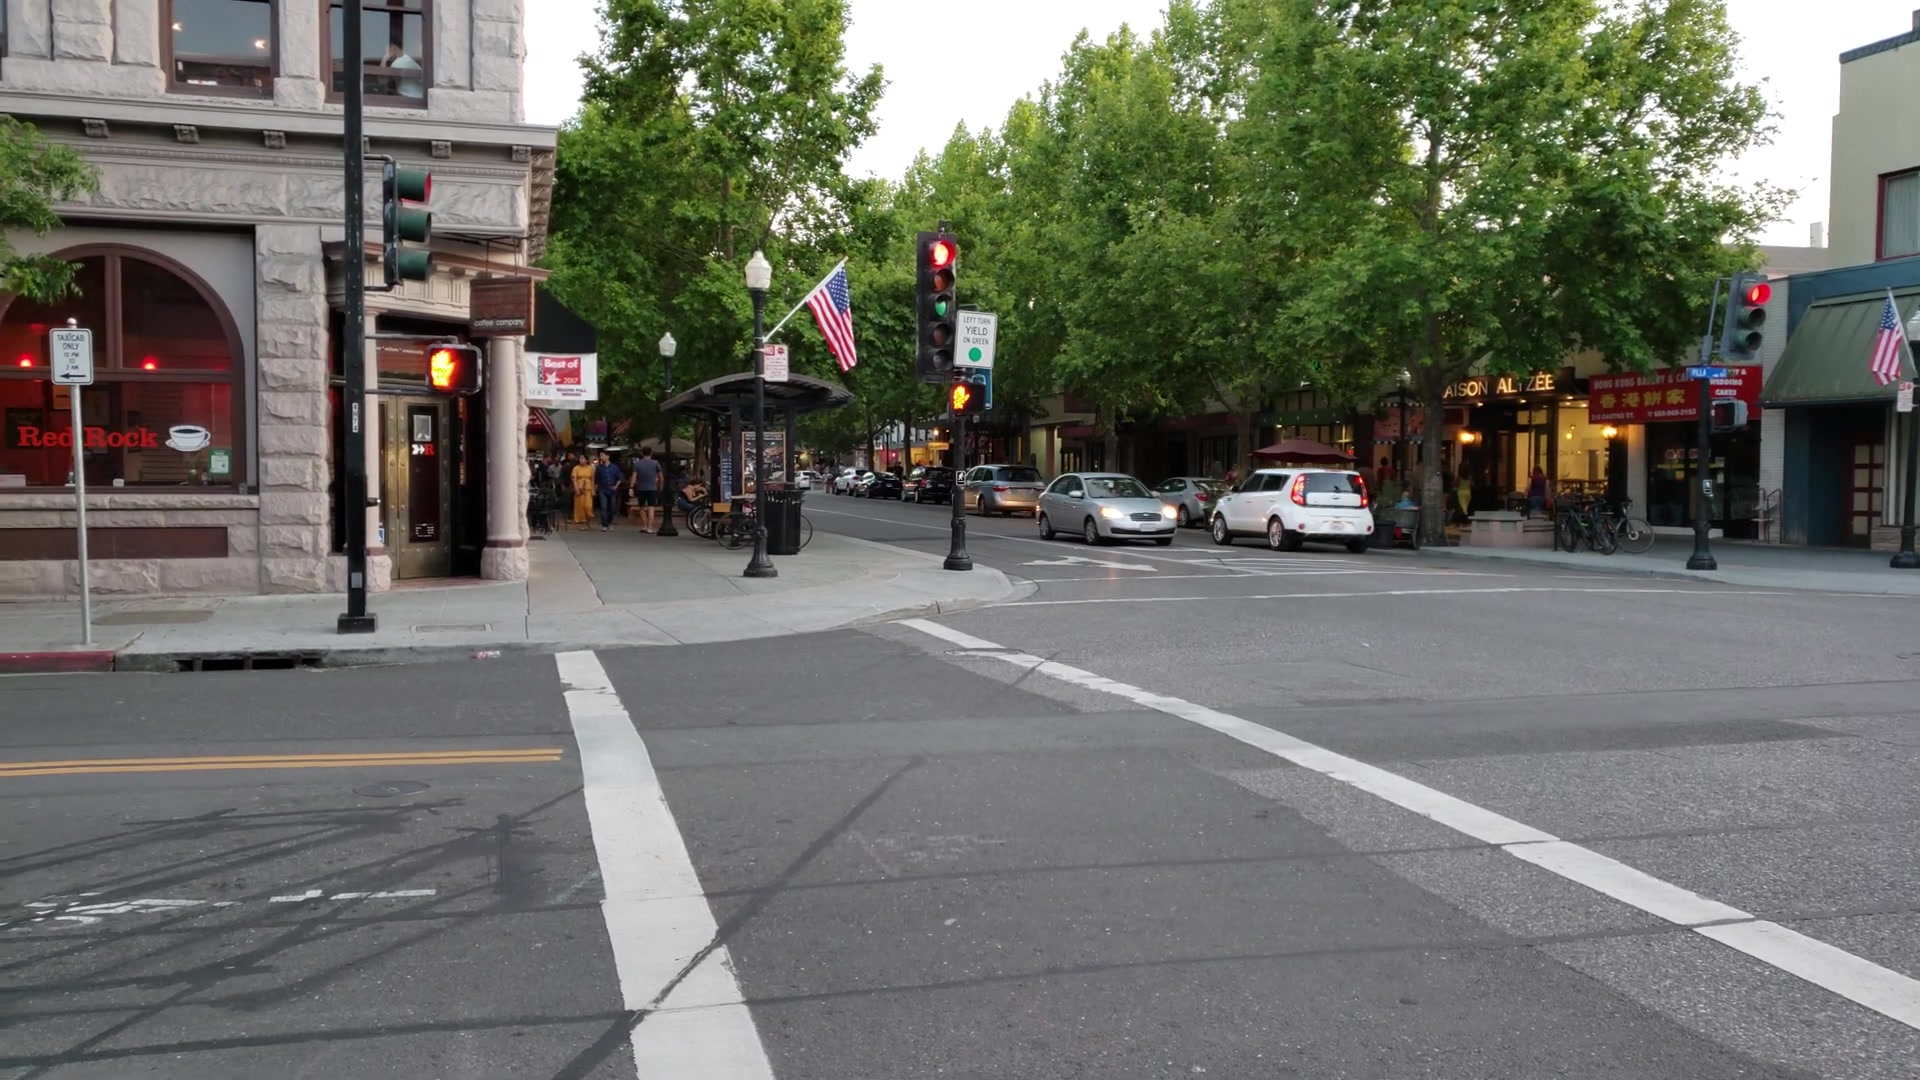vehicle: (1211, 469, 1373, 554), (1036, 472, 1178, 546)
